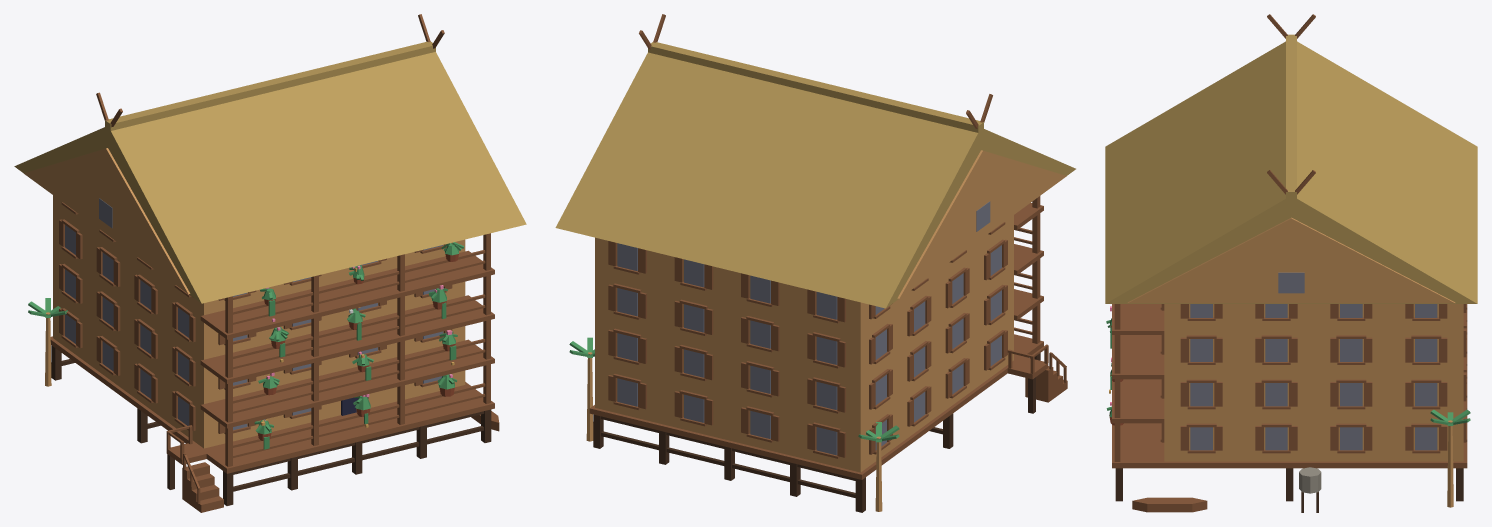
Rendered from house-2x2-4f-stilt-a.glb.
3 views of the same model, side by side, from view 1: azimuth 30°, elevation 25°; view 2: azimuth 150°, elevation 25°; view 3: azimuth 270°, elevation 25° (orthographic). The views are drawn at different scales.
Parts seen in each view (by area): view 1: house-2x2-4f-stilt-a; view 2: house-2x2-4f-stilt-a; view 3: house-2x2-4f-stilt-a.
Part boxes in pixels (left/top/right/bottom): house-2x2-4f-stilt-a: left=14, top=14, right=526, bottom=512; house-2x2-4f-stilt-a: left=555, top=14, right=1075, bottom=512; house-2x2-4f-stilt-a: left=1105, top=14, right=1477, bottom=512.
Bounding box in the file's own units: 2.02 × 2.03 × 1.99.
1 material, 1 textured.
